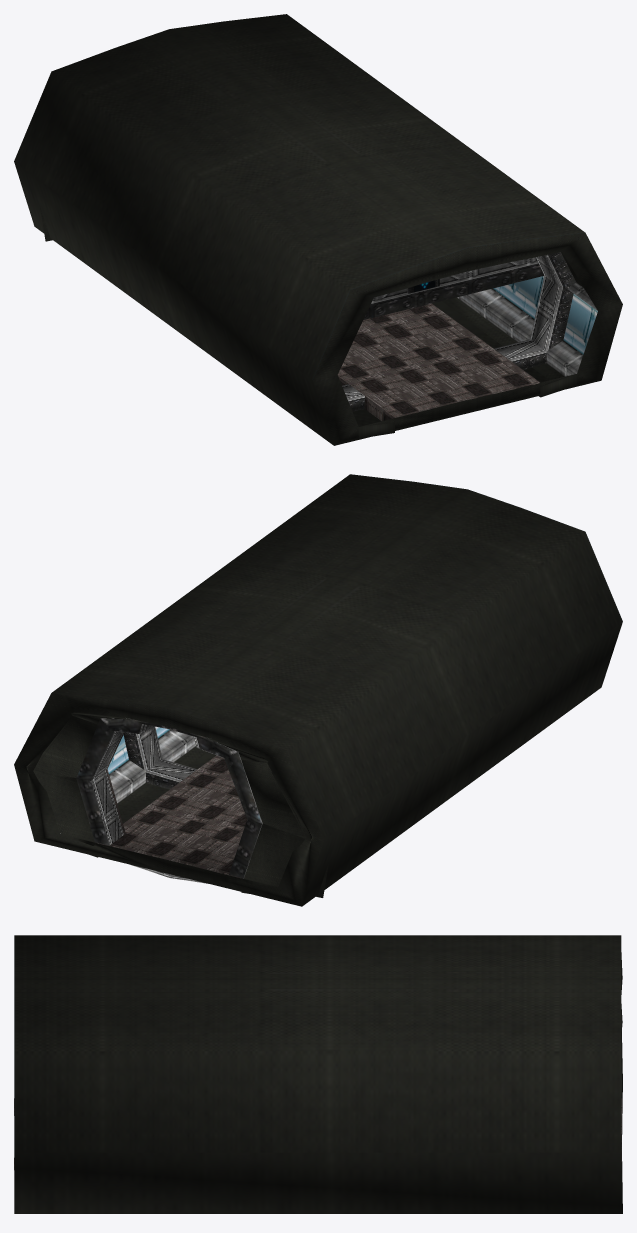
File: upWideCorridor.fbx
3 renders of one model, top to bottom at view 1: azimuth 30°, elevation 25°; view 2: azimuth 150°, elevation 25°; view 3: azimuth 270°, elevation 25°, orthographic.
Visible parts, largest first — view 1: Mesh_009, Mesh_010, Mesh_013, Mesh_003; view 2: Mesh_009, Mesh_010, Mesh_011; view 3: Mesh_009.
Part boxes in pixels (bbox=[...]): Mesh_009: bbox=[14, 14, 622, 445]; Mesh_010: bbox=[337, 303, 539, 417]; Mesh_013: bbox=[342, 252, 576, 411]; Mesh_003: bbox=[363, 257, 544, 319]; Mesh_009: bbox=[14, 474, 622, 906]; Mesh_010: bbox=[97, 755, 247, 878]; Mesh_011: bbox=[123, 726, 196, 789]; Mesh_009: bbox=[14, 935, 622, 1213].
Bounding box in the file's own units: 180 × 94.47 × 302.
Materials: 3 (3 with a texture image).
